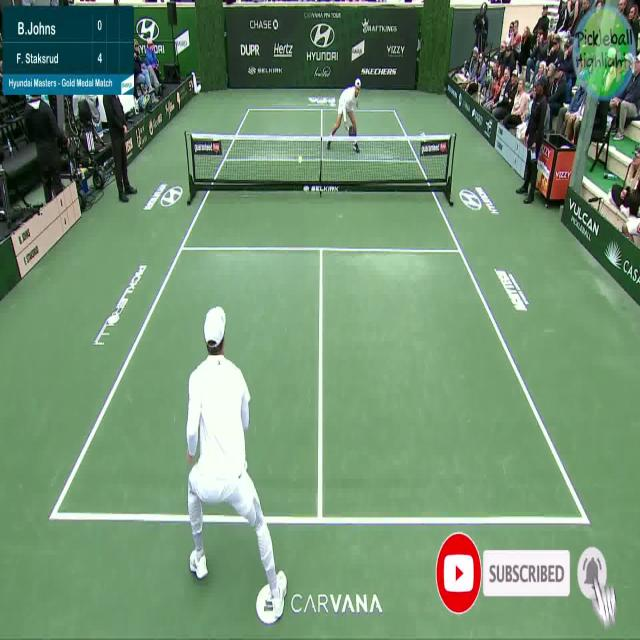Court: (51, 107, 588, 520)
ball: (296, 145, 306, 167)
